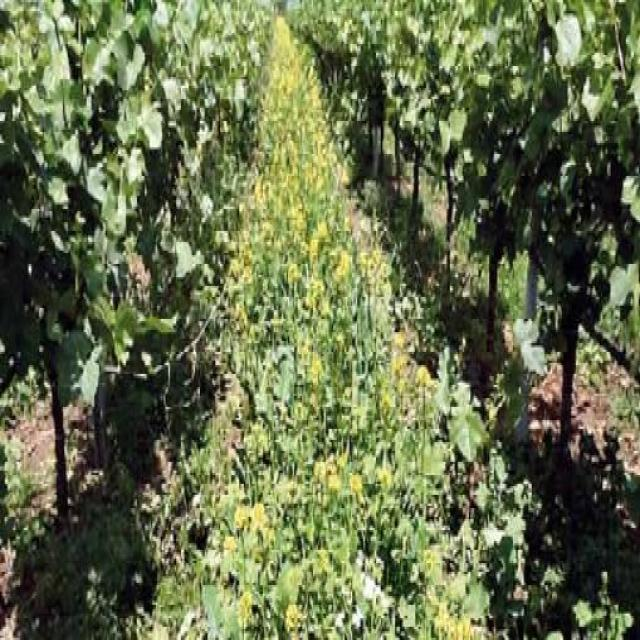row: (52, 15, 584, 640)
